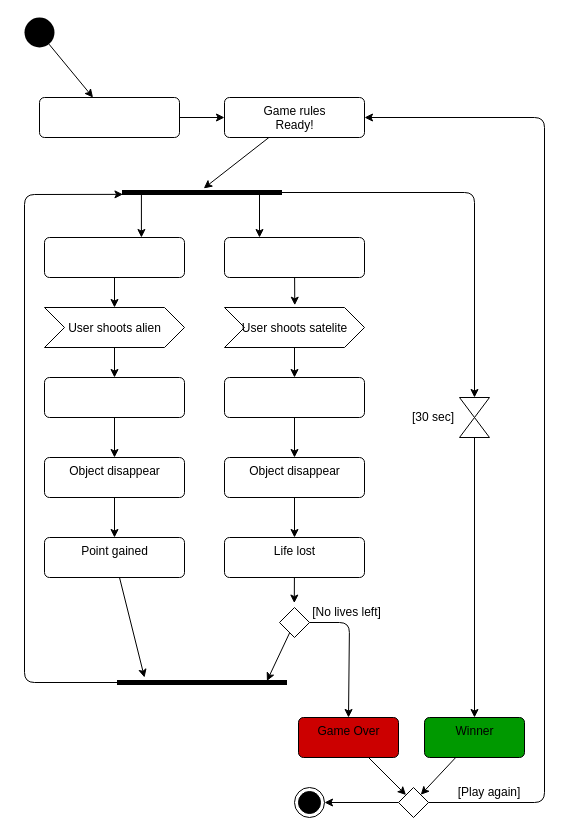
This 570x835 diagram has some shape labels left out. The centre of each missing label's shape, as x and y in pixels:
Alien slide in: pixel 114 257
Bad sound occur: pixel 294 397
Good sound occur: pixel 114 397
Satelite slide in: pixel 294 257
Welcome screen: pixel 109 117
